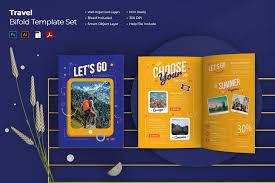paper: (139, 54, 256, 154), (59, 56, 124, 148)
